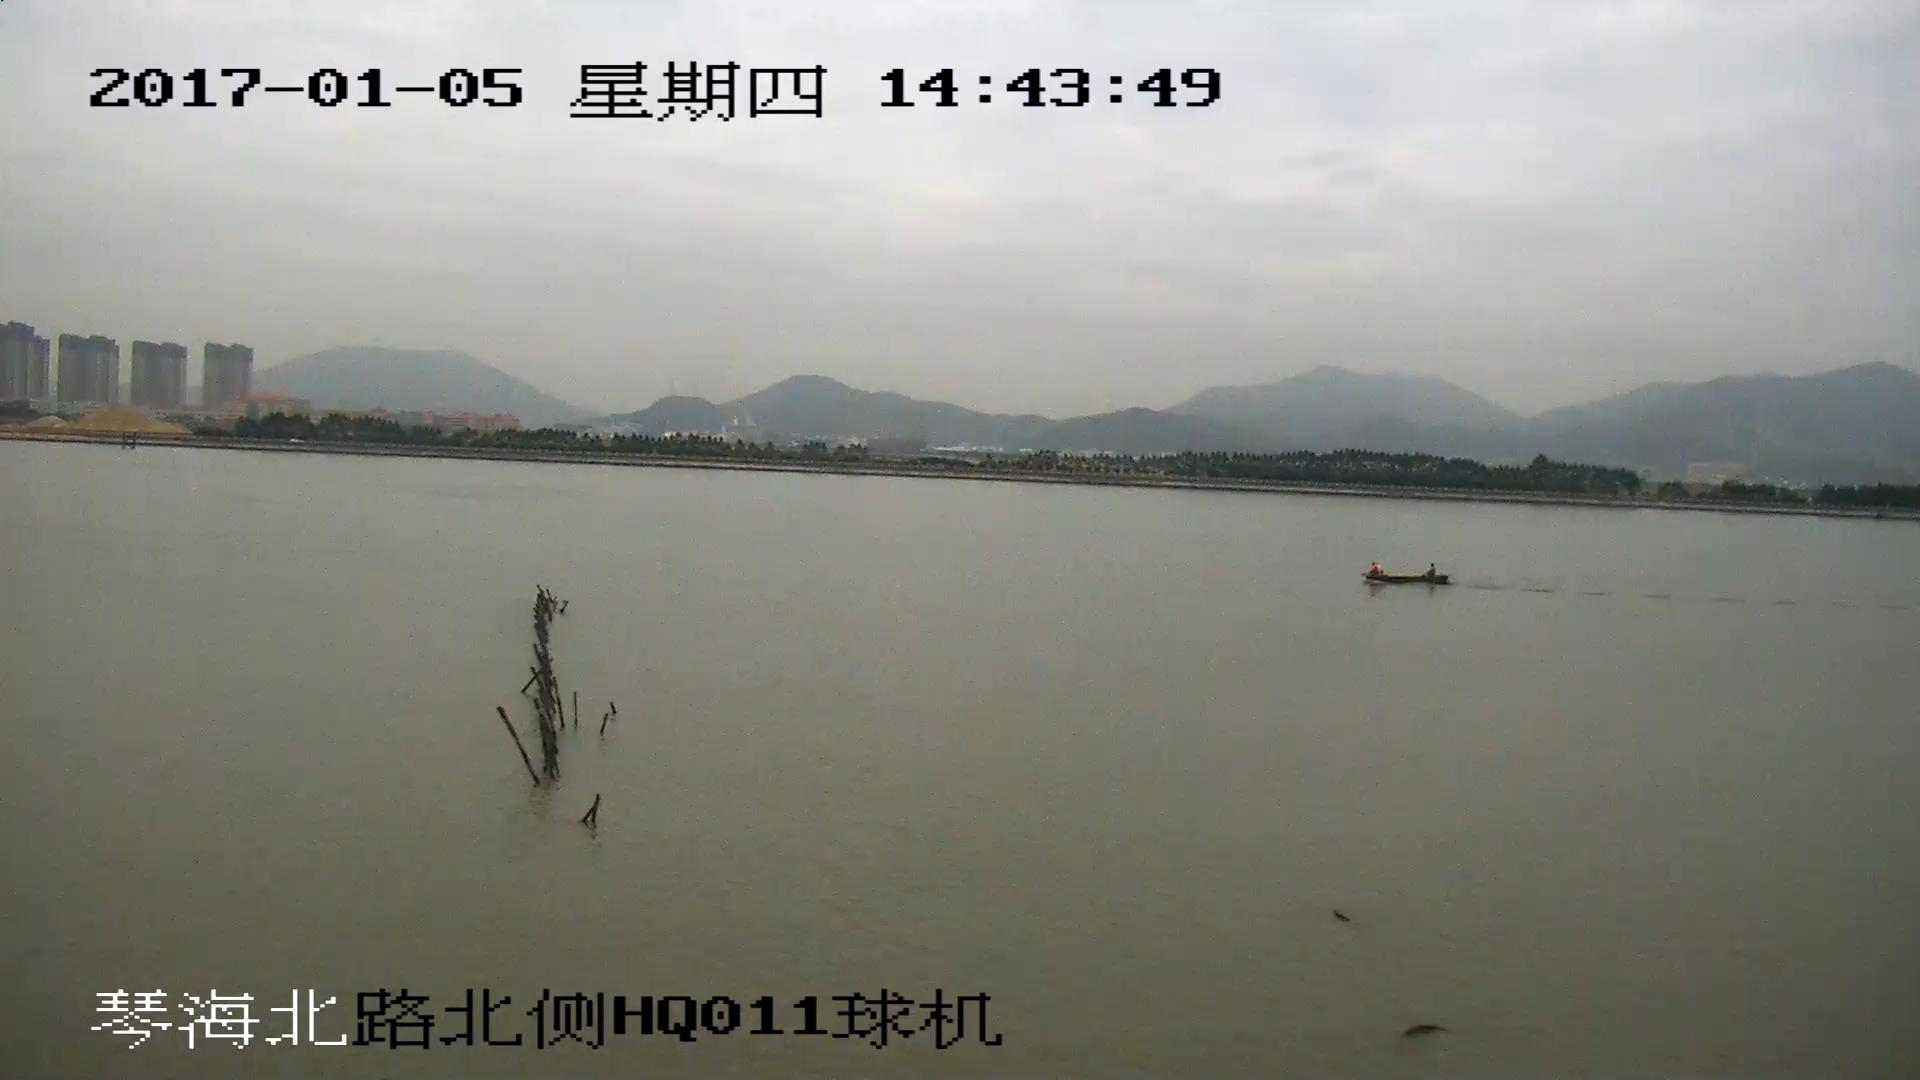fishing boat: (1356, 560, 1449, 587)
